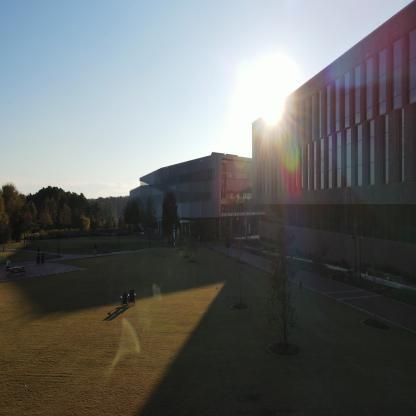Fitts- Woolard: (250, 6, 415, 283)
Hunt Library: (124, 142, 247, 258)
